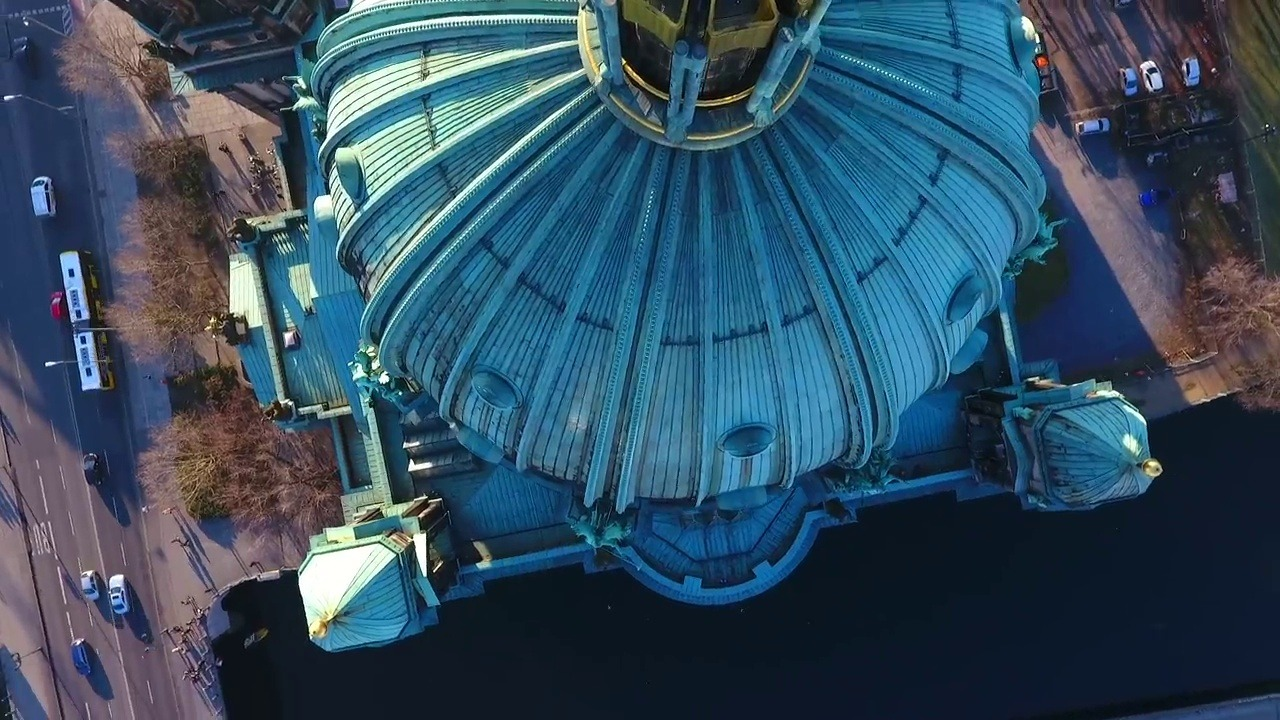bus: (53, 241, 106, 328), (74, 323, 119, 396)
car: (103, 566, 137, 621)
van: (27, 168, 62, 224)
